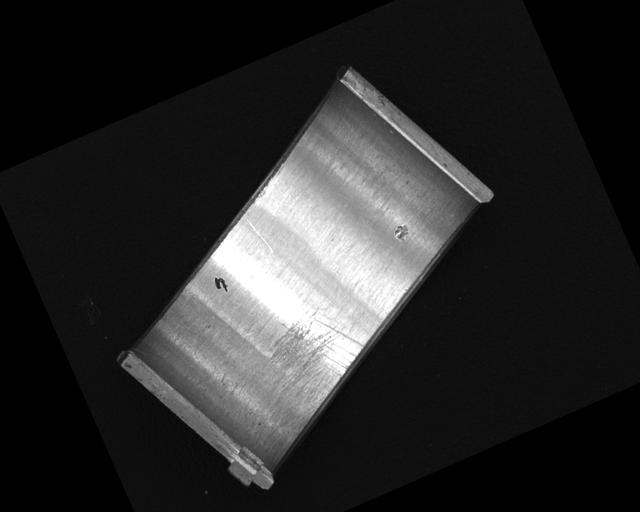blot: (211, 273, 229, 295)
bruise: (390, 222, 413, 246)
nick: (244, 212, 274, 258)
scratch: (245, 295, 386, 441)
